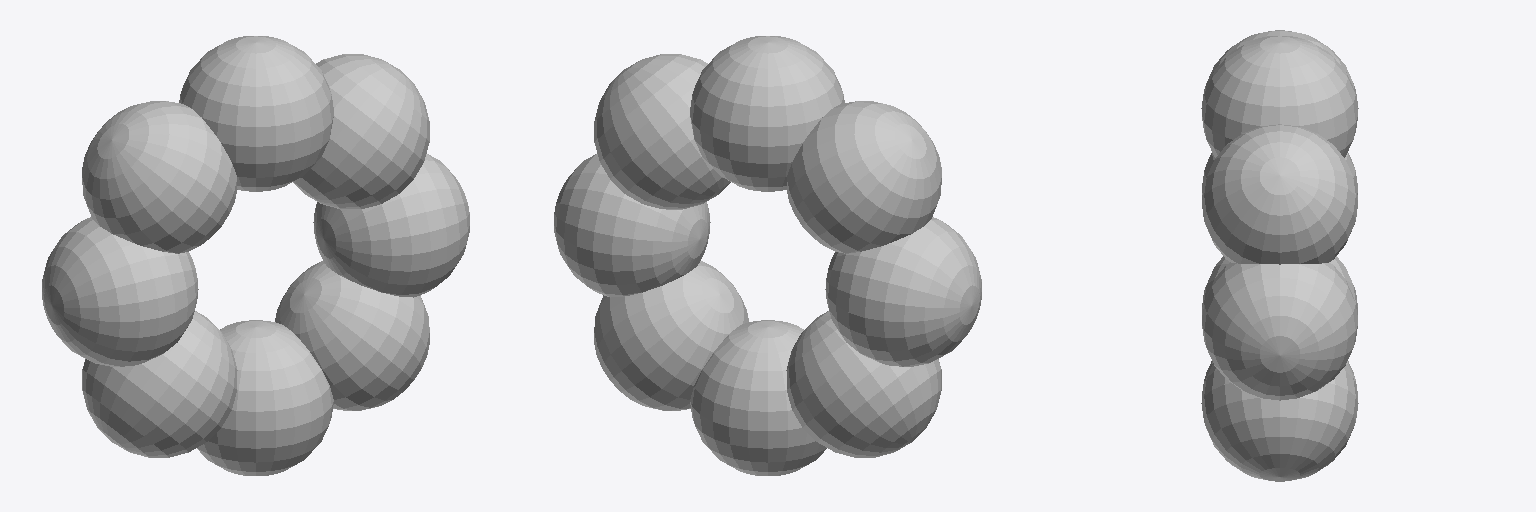
The model's file is PonDeRing.obj.
3 renders of one model, left to right at view 1: azimuth 30°, elevation 25°; view 2: azimuth 150°, elevation 25°; view 3: azimuth 270°, elevation 25°, orthographic.
Visible parts, largest first — view 1: 立方体_立方体.001; view 2: 立方体_立方体.001; view 3: 立方体_立方体.001.
Boxes of the visible parts, box(x1,y1,x2,y2) form: 立方体_立方体.001: box(42, 36, 469, 475); 立方体_立方体.001: box(554, 36, 981, 475); 立方体_立方体.001: box(1201, 30, 1358, 481).
Bounding box in the file's own units: 32.58 × 32.58 × 10.86.